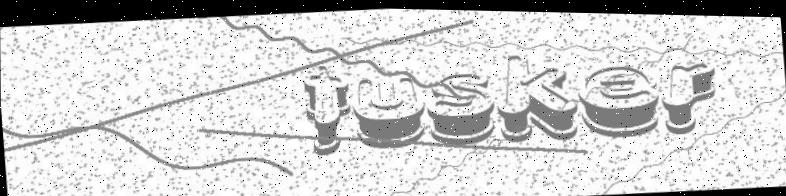e: (574, 58, 661, 140)
k: (493, 47, 580, 143)
r: (657, 58, 719, 133)
s: (423, 68, 498, 149)
t: (300, 60, 355, 157)
u: (350, 72, 428, 149)
